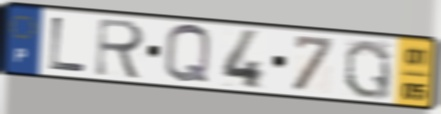4: (219, 29, 268, 91)
7: (290, 34, 335, 94)
L: (47, 14, 90, 74)
Q: (162, 22, 214, 86), (342, 37, 393, 102)
R: (93, 16, 148, 82)
